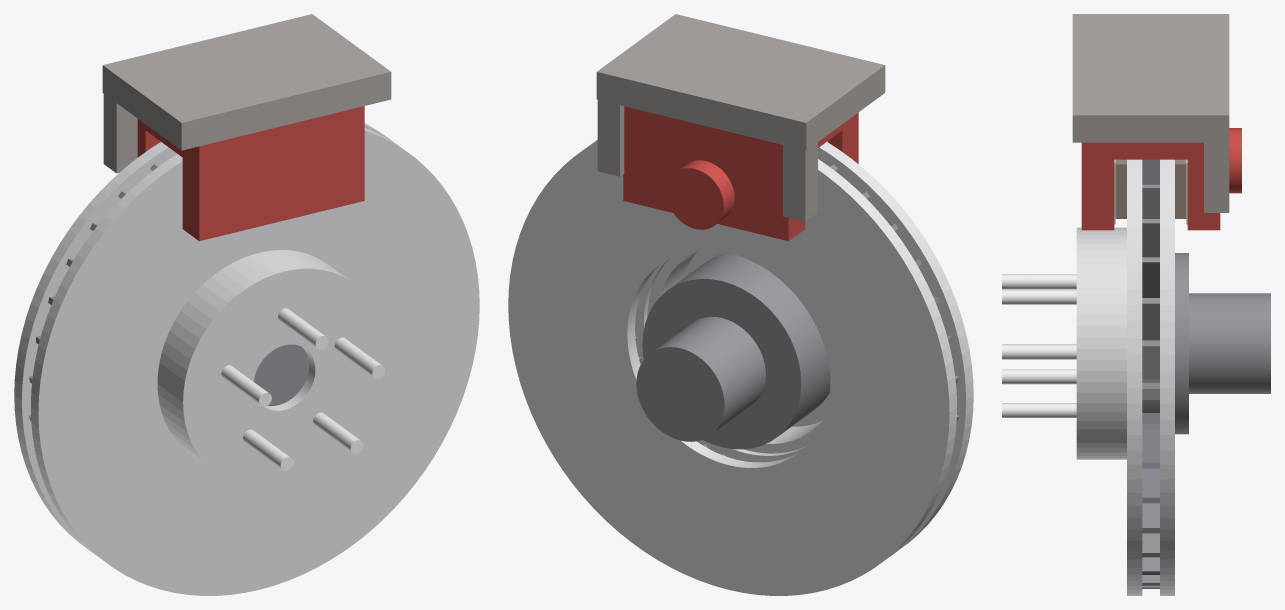
The model's file is freno_disco.glb.
3 renders of one model, left to right at view 1: azimuth 30°, elevation 25°; view 2: azimuth 150°, elevation 25°; view 3: azimuth 270°, elevation 25°, orthographic.
Visible parts, largest first — view 1: disco, soporte_pinza, pinza, maza; view 2: disco, soporte_pinza, maza, pinza; view 3: disco, soporte_pinza, maza, pinza, pastilla_exterior, pastilla_interior.
Boxes of the visible parts, x1=… form: disco: x1=14, y1=123, x2=479, y2=595; soporte_pinza: x1=102, y1=14, x2=391, y2=173; pinza: x1=137, y1=106, x2=364, y2=241; maza: x1=221, y1=308, x2=385, y2=470; disco: x1=508, y1=140, x2=973, y2=595; soporte_pinza: x1=596, y1=14, x2=885, y2=221; maza: x1=636, y1=252, x2=830, y2=449; pinza: x1=623, y1=106, x2=858, y2=241; disco: x1=1076, y1=159, x2=1174, y2=595; soporte_pinza: x1=1072, y1=14, x2=1229, y2=212; maza: x1=1002, y1=253, x2=1270, y2=434; pinza: x1=1081, y1=128, x2=1241, y2=230; pastilla_exterior: x1=1114, y1=159, x2=1126, y2=224; pastilla_interior: x1=1175, y1=159, x2=1187, y2=224.
Size of the model in its own units: 2 by 2.22 by 1.06.
